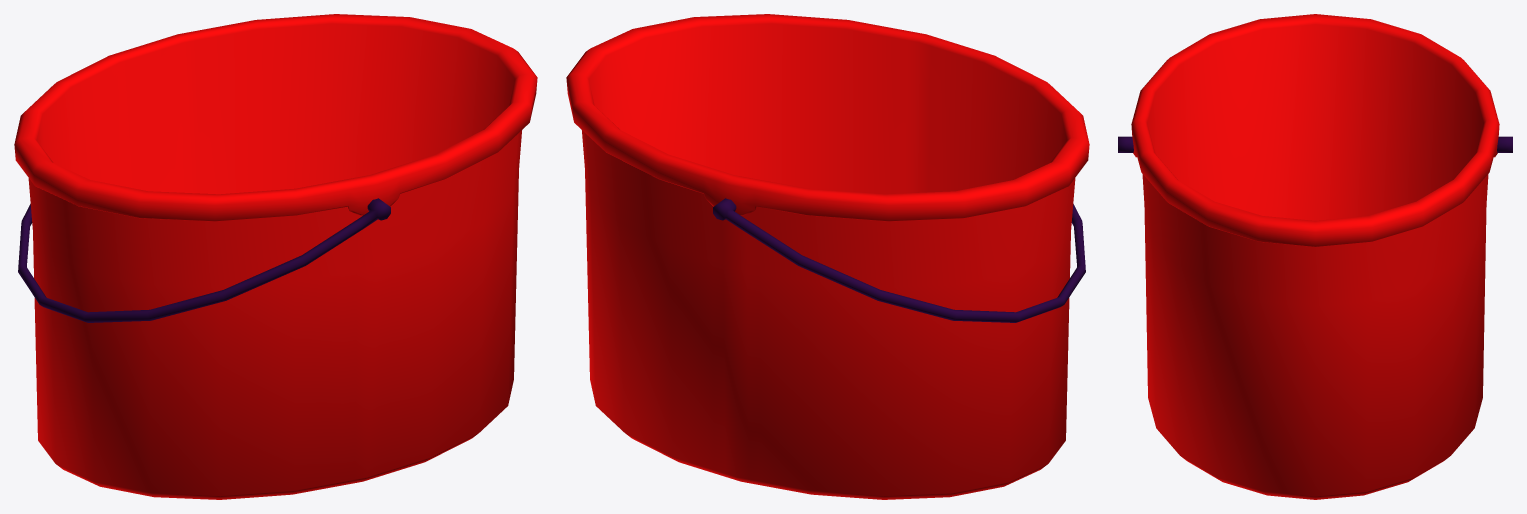
File: umgebung_putzeimer_low(1).FBX
3 renders of one model, left to right at view 1: azimuth 30°, elevation 25°; view 2: azimuth 150°, elevation 25°; view 3: azimuth 270°, elevation 25°, orthographic. The views are drawn at different scales.
Parts seen in each view (by area): view 1: o_eimer_low, o_griff_low; view 2: o_eimer_low, o_griff_low; view 3: o_eimer_low, o_griff_low.
Part boxes in pixels (bbox=[...]): o_eimer_low: bbox=[14, 14, 537, 499]; o_griff_low: bbox=[18, 198, 390, 322]; o_eimer_low: bbox=[566, 14, 1089, 499]; o_griff_low: bbox=[713, 198, 1085, 322]; o_eimer_low: bbox=[1131, 14, 1499, 499]; o_griff_low: bbox=[1118, 136, 1512, 152].
Bounding box in the file's own units: 95.5 × 73.65 × 58.65.
